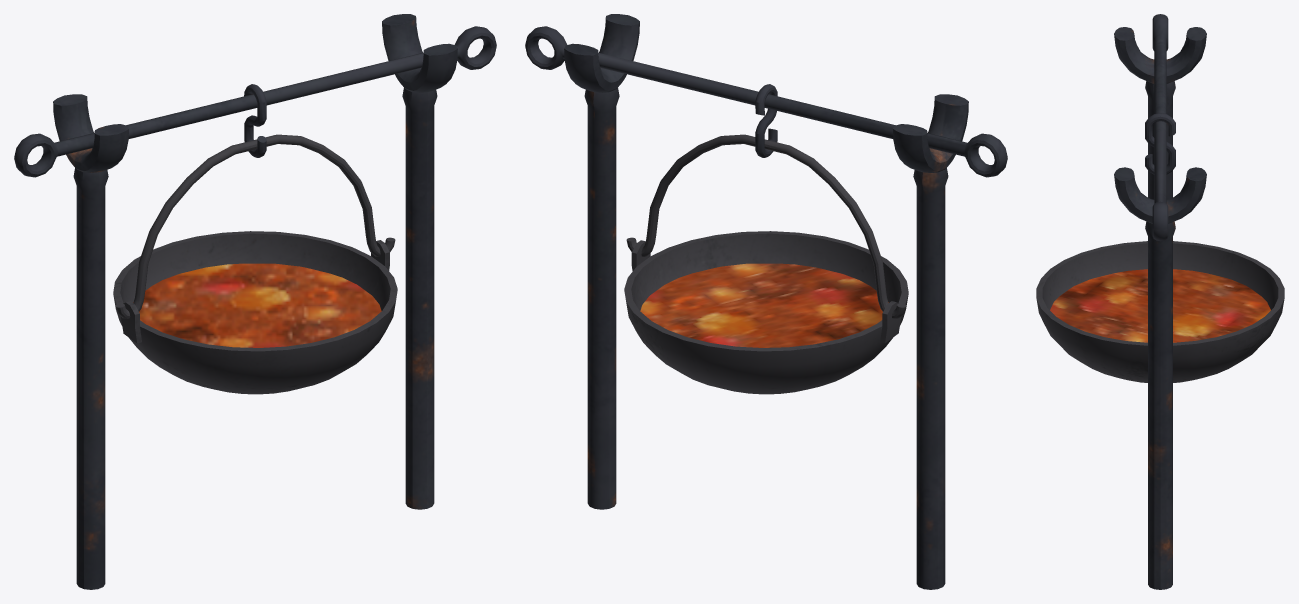
The model's file is sb_obj_outdoor035_bonfire_pot02.fbx.
3 views of the same model, side by side, from view 1: azimuth 30°, elevation 25°; view 2: azimuth 150°, elevation 25°; view 3: azimuth 270°, elevation 25° (orthographic). The views are drawn at different scales.
Visible parts, largest first — view 1: sb_obj_outdoor035_bonfire_pot02, pot02_food; view 2: sb_obj_outdoor035_bonfire_pot02, pot02_food; view 3: sb_obj_outdoor035_bonfire_pot02, pot02_food.
Boxes of the visible parts, box(x1,y1,x2,y2) form: sb_obj_outdoor035_bonfire_pot02: box(14, 14, 496, 589); pot02_food: box(133, 263, 381, 347); sb_obj_outdoor035_bonfire_pot02: box(525, 14, 1007, 589); pot02_food: box(640, 263, 888, 347); sb_obj_outdoor035_bonfire_pot02: box(1036, 14, 1284, 589); pot02_food: box(1050, 269, 1270, 342).
Size of the model in its own units: 0.8167 by 0.7632 by 0.4181.
